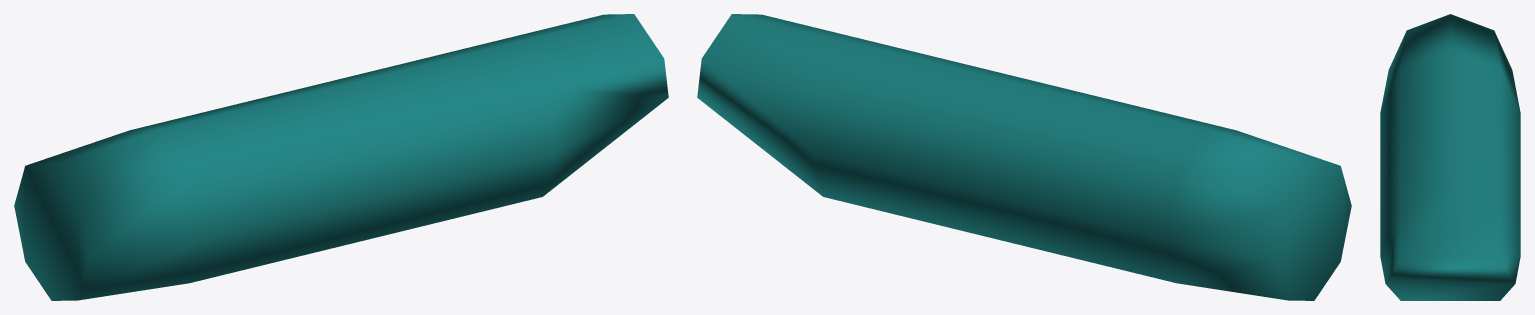
The model's file is polo_mallet_collider.fbx.
The picture shows the model from 3 angles, left to right: view 1: azimuth 30°, elevation 25°; view 2: azimuth 150°, elevation 25°; view 3: azimuth 270°, elevation 25°; orthographic projection. The views are drawn at different scales.
Parts seen in each view (by area): view 1: polo_mallet_collider; view 2: polo_mallet_collider; view 3: polo_mallet_collider.
Part boxes in pixels (left/top/right/bottom): polo_mallet_collider: left=14, top=14, right=668, bottom=300; polo_mallet_collider: left=697, top=14, right=1351, bottom=300; polo_mallet_collider: left=1380, top=14, right=1520, bottom=300.
Size of the model in its own units: 33.68 by 8.52 by 8.51.
